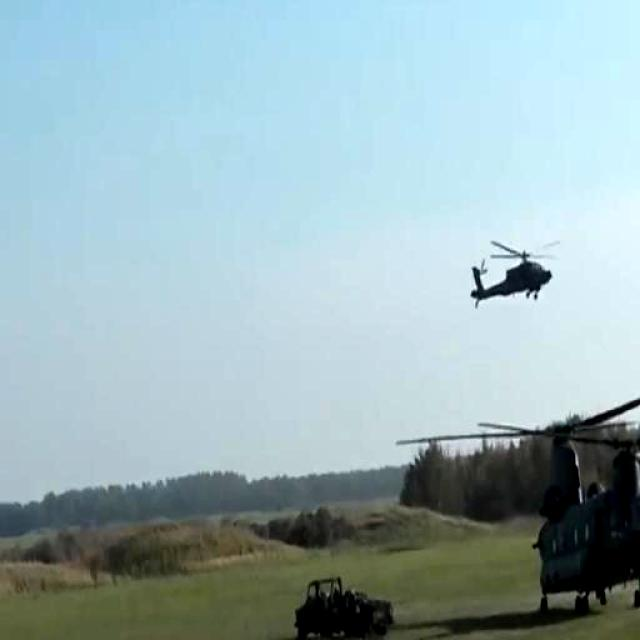drone: (495, 371, 640, 636), (464, 220, 575, 321)
